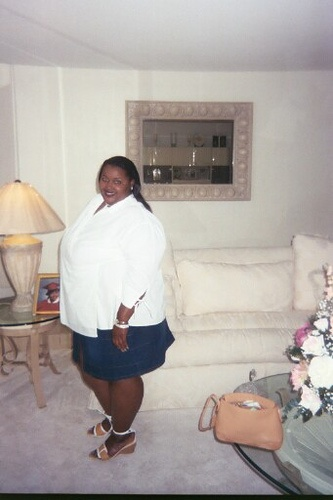head: (98, 157, 137, 203)
person: (56, 156, 172, 462)
